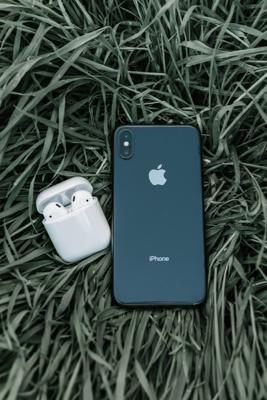Mobile Phone: (111, 123, 207, 307)
